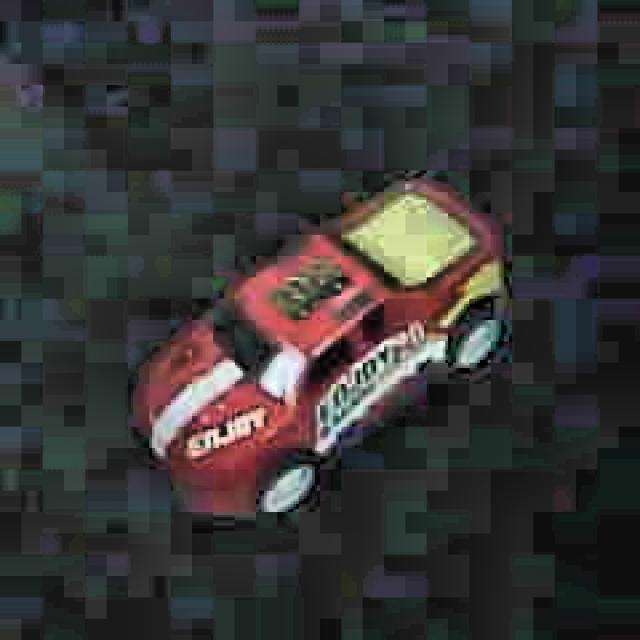car: (130, 170, 509, 520)
